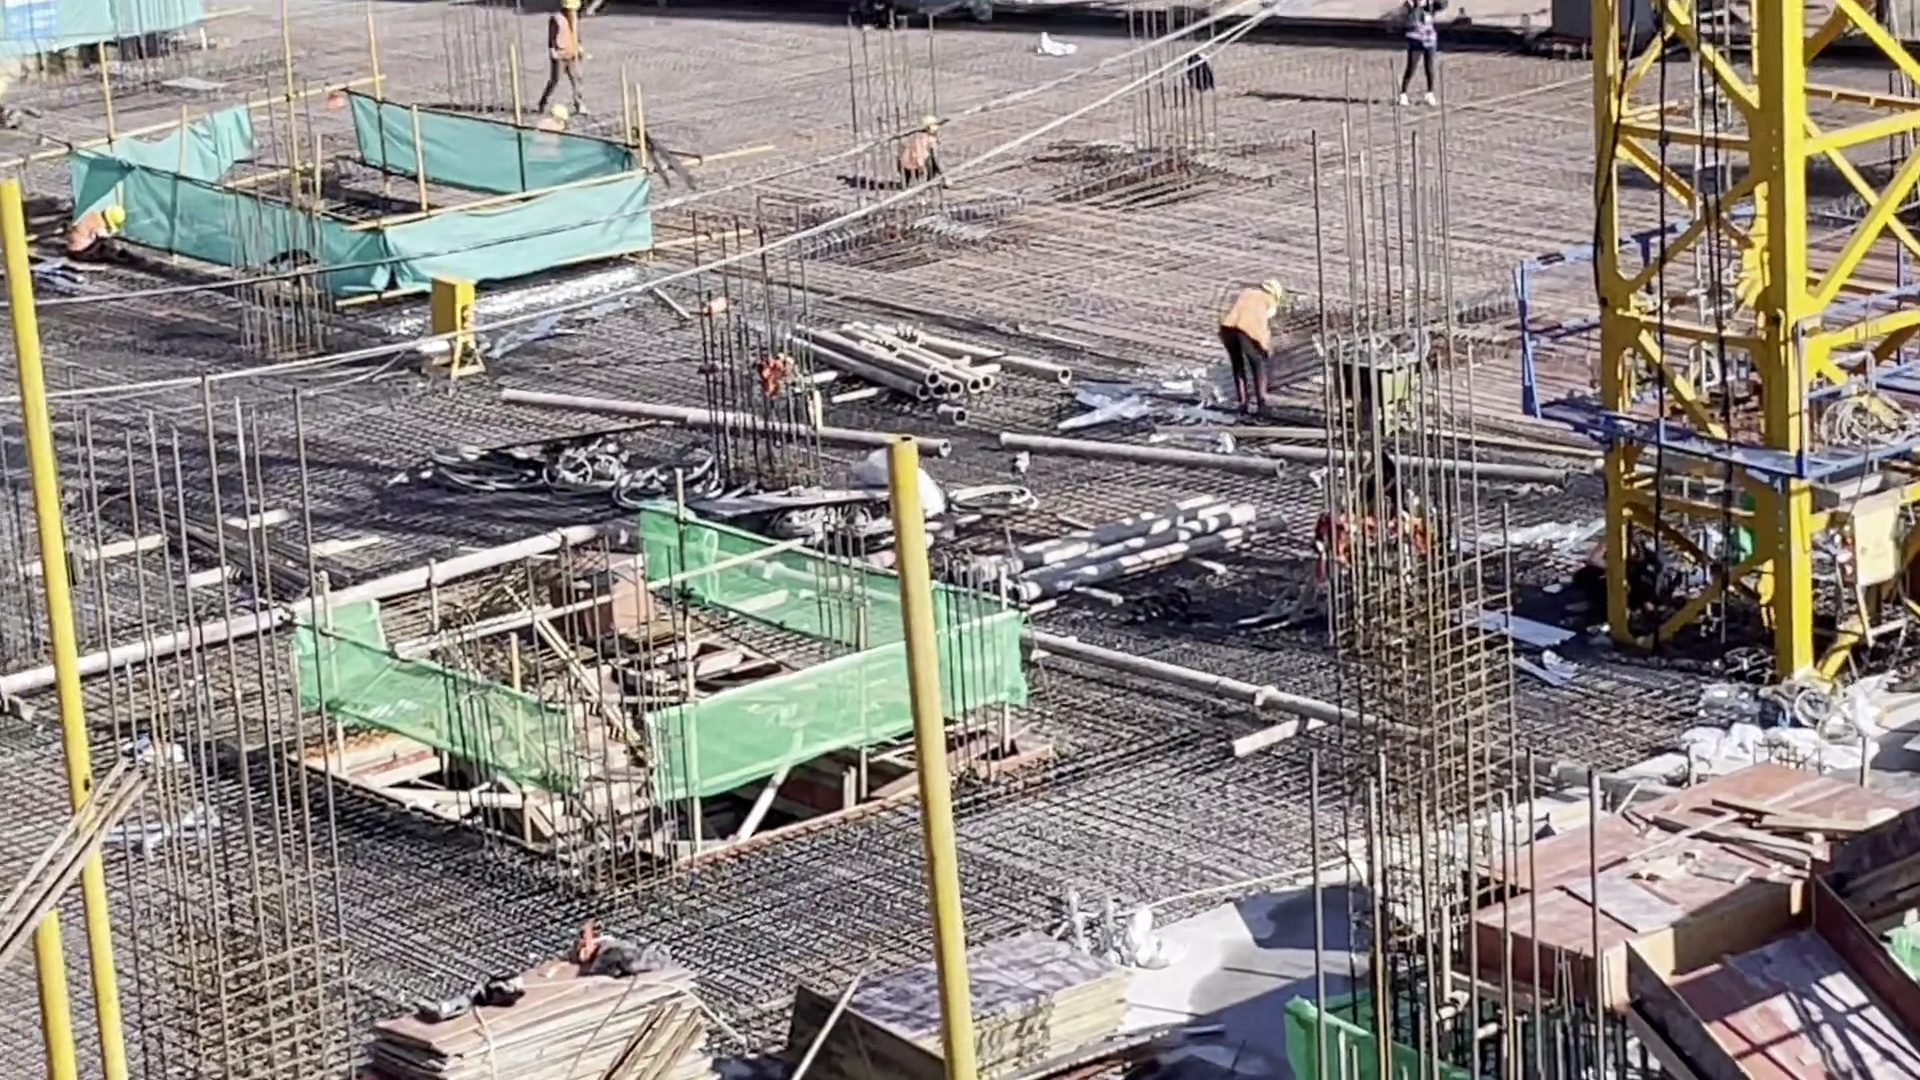board: (372, 938, 713, 1080), (821, 925, 1131, 1077)
ebox: (429, 272, 489, 376)
helmet: (1258, 276, 1283, 297), (104, 204, 123, 224), (548, 104, 565, 121), (920, 114, 935, 130), (559, 1, 579, 10)
person: (1219, 268, 1284, 422), (540, 1, 588, 109), (1403, 1, 1441, 126), (58, 204, 140, 257), (528, 104, 580, 172), (904, 112, 946, 186)
slogan: (2, 2, 66, 42)
vest: (1219, 287, 1271, 349), (64, 210, 105, 257), (550, 15, 580, 59), (901, 133, 930, 174), (1404, 11, 1435, 47)
